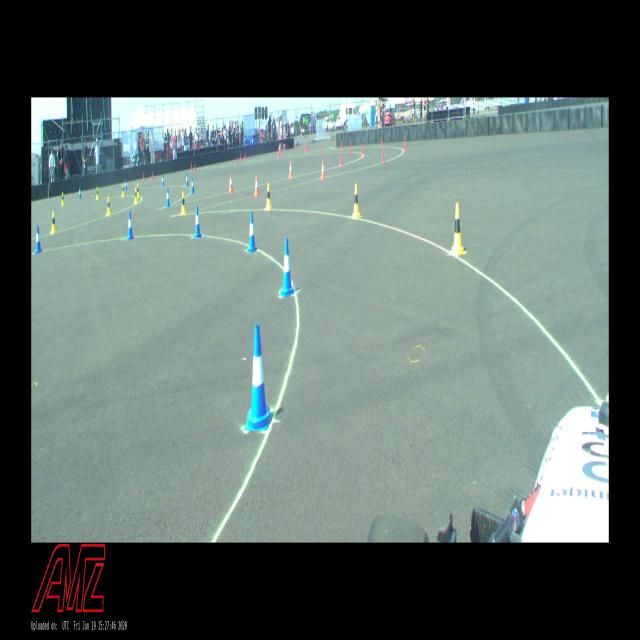blue_cone: (245, 324, 273, 431), (281, 238, 294, 298), (247, 212, 258, 253), (193, 205, 201, 238), (34, 225, 42, 254), (127, 211, 134, 239), (166, 187, 170, 207), (191, 177, 194, 193), (78, 186, 82, 198), (125, 178, 127, 190), (186, 174, 188, 186), (162, 174, 164, 186)
orange_cone: (254, 174, 259, 197), (321, 160, 325, 180), (229, 174, 233, 193), (288, 160, 292, 178)
yellow_cone: (452, 202, 466, 256), (352, 184, 362, 218), (265, 183, 272, 209), (180, 192, 186, 214), (50, 212, 56, 233), (106, 196, 111, 215), (134, 187, 138, 204), (121, 183, 125, 197), (137, 183, 140, 198), (61, 192, 64, 205), (96, 186, 99, 199)
